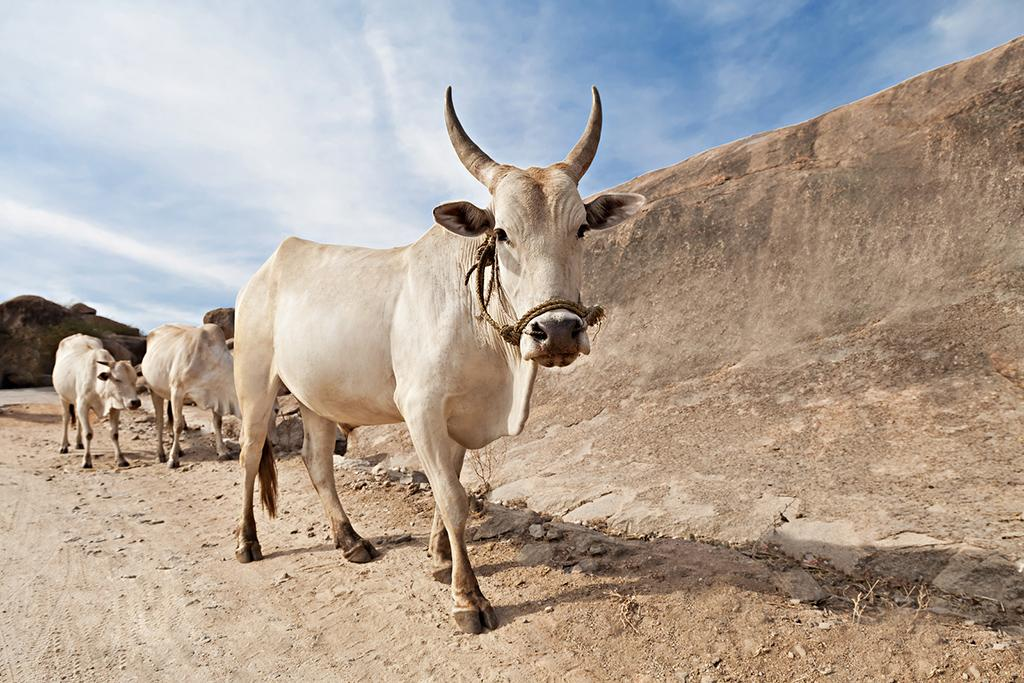muzzles: (516, 308, 598, 371)
